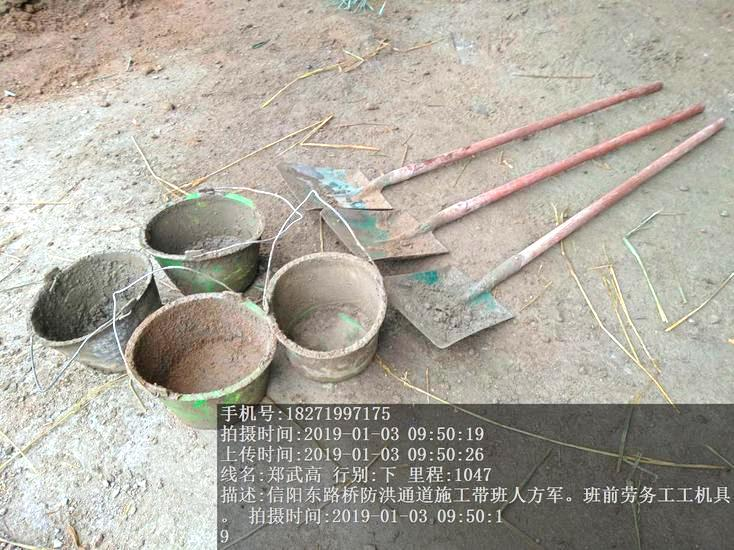SNT: (133, 290, 269, 407), (258, 244, 375, 370), (26, 246, 145, 357), (135, 195, 263, 284)
TQ: (286, 81, 662, 207)
